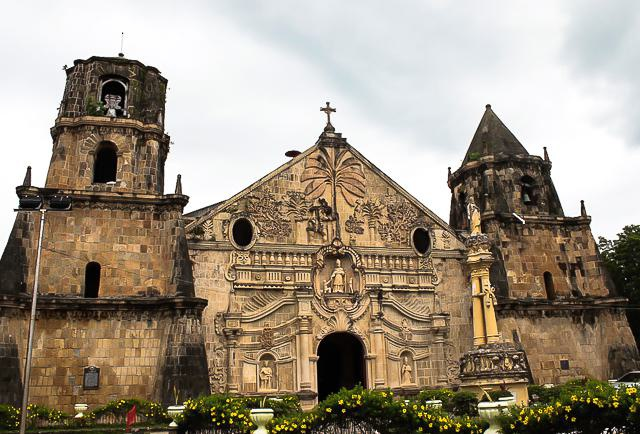miagao_church_miagao_iloilo: (2, 26, 640, 403)
